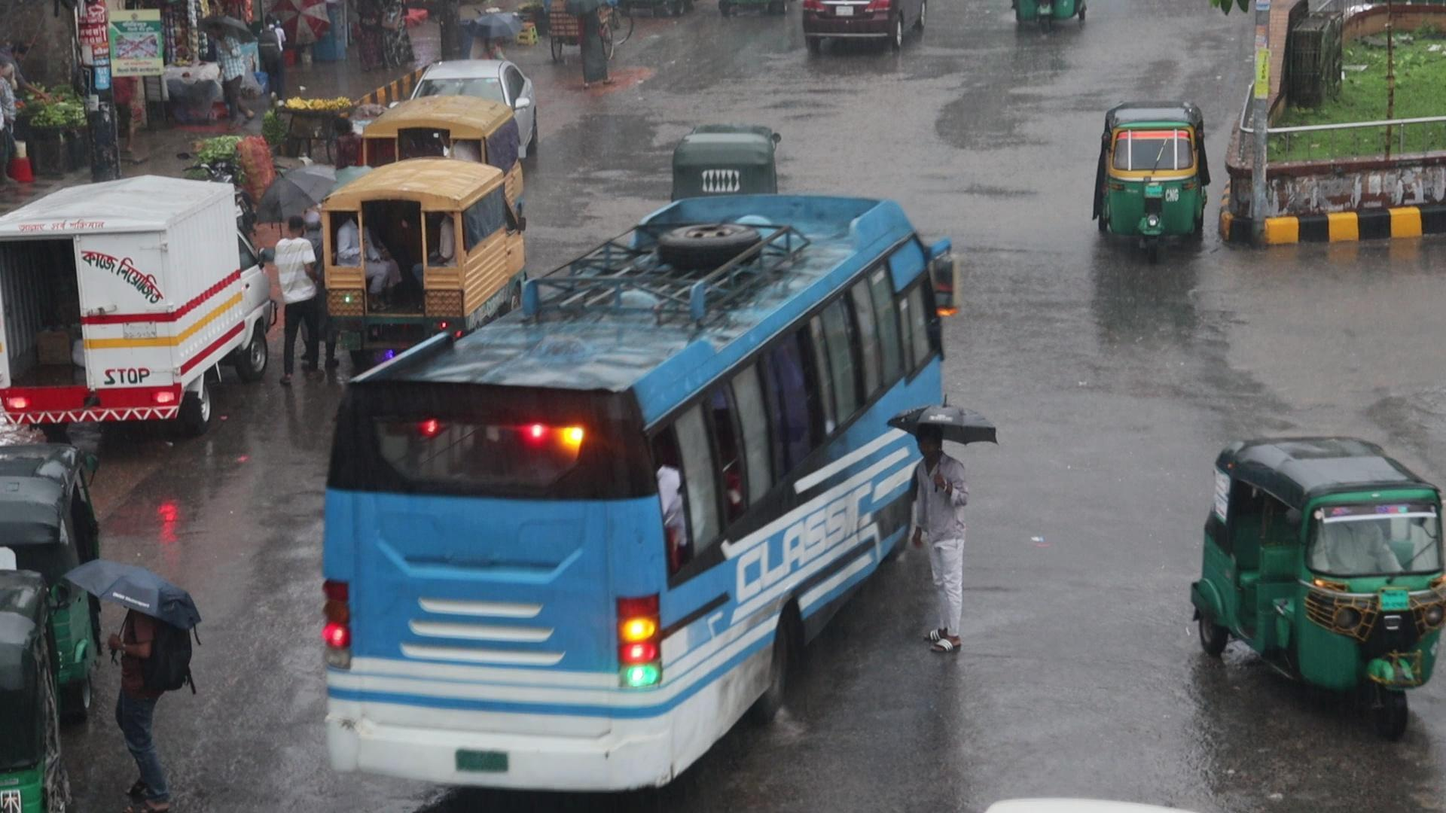Bus: (317, 189, 946, 783)
Truck: (319, 158, 523, 327)
